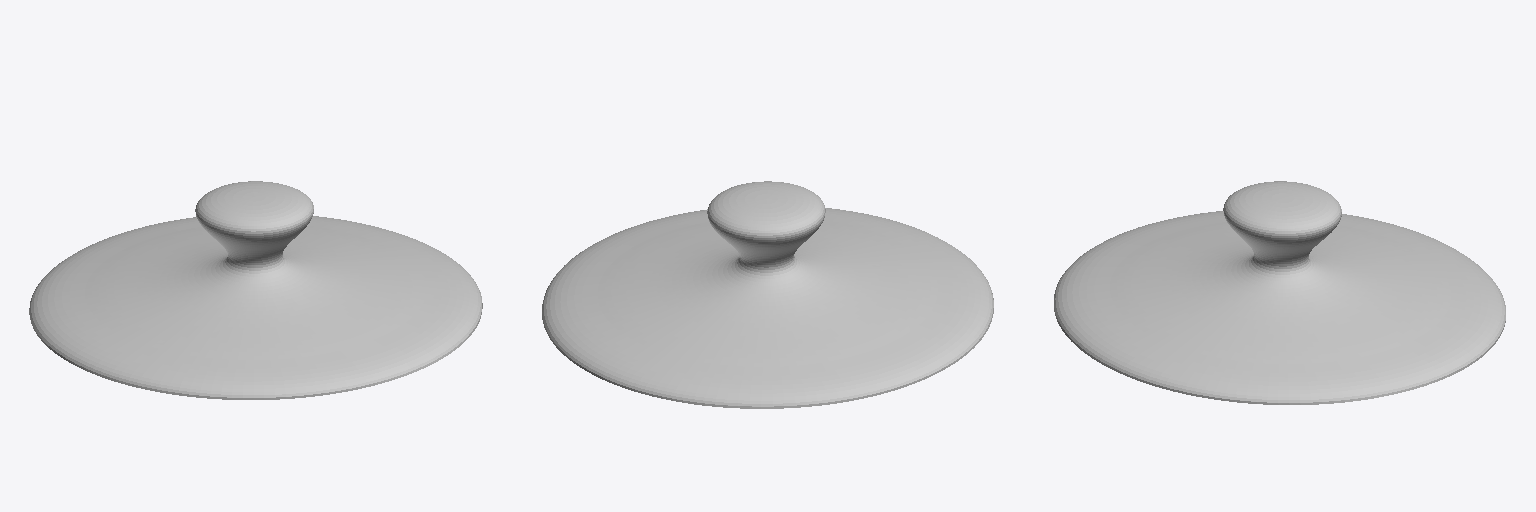
Rendered from teapotTop.obj.
The picture shows the model from 3 angles: view 1: azimuth 30°, elevation 25°; view 2: azimuth 150°, elevation 25°; view 3: azimuth 270°, elevation 25°; orthographic projection.
Parts seen in each view (by area): view 1: TeapotLid; view 2: TeapotLid; view 3: TeapotLid.
Part boxes in pixels (x1,y1,x2,y2): TeapotLid: (29,181,482,399); TeapotLid: (542,181,993,408); TeapotLid: (1054,181,1505,404).
Size of the model in its own units: 1.09 by 0.3083 by 1.09.